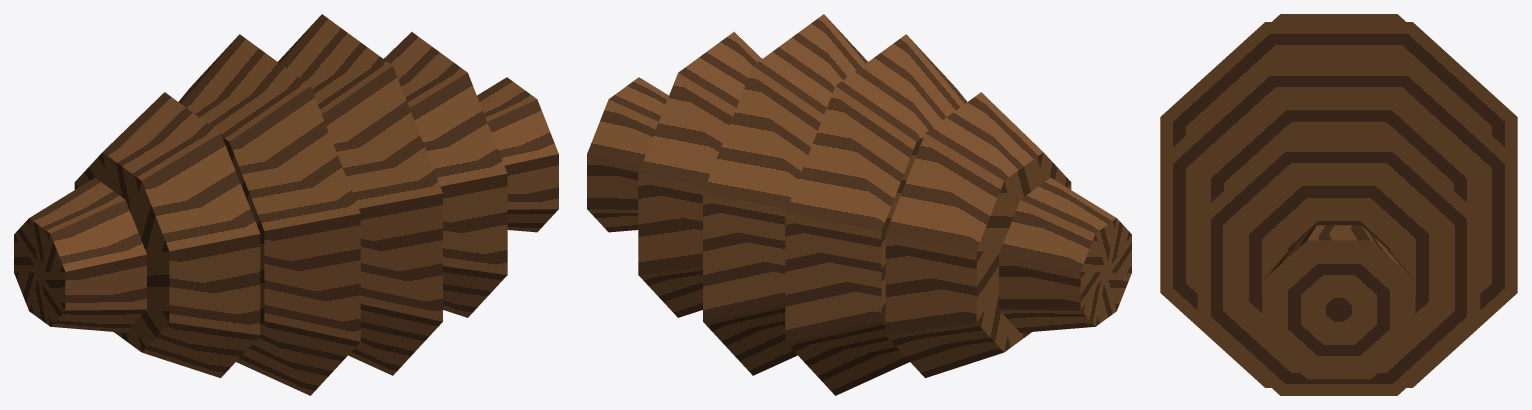
The model's file is pinecone.glb.
The picture shows the model from 3 angles, left to right: view 1: azimuth 30°, elevation 25°; view 2: azimuth 150°, elevation 25°; view 3: azimuth 270°, elevation 25°; orthographic projection. The views are drawn at different scales.
Parts seen in each view (by area): view 1: block_tier3, block_tier4, block_tier2, block_tier1, block_tier5, block_tier0; view 2: block_tier3, block_tier4, block_tier2, block_tier1, block_tier5, block_tier0; view 3: block_tier1, block_tier2, block_tier0, block_tier3, block_tier4.
Boxes of the visible parts, x1,y1,x2,y2 form: block_tier3: [178, 34, 360, 395]; block_tier4: [74, 92, 260, 378]; block_tier2: [278, 14, 442, 375]; block_tier1: [384, 32, 507, 317]; block_tier5: [14, 178, 146, 332]; block_tier0: [477, 77, 558, 232]; block_tier3: [785, 34, 967, 395]; block_tier4: [885, 92, 1071, 378]; block_tier2: [703, 14, 867, 375]; block_tier1: [638, 32, 761, 317]; block_tier5: [999, 178, 1131, 332]; block_tier0: [587, 77, 668, 232]; block_tier1: [1197, 140, 1480, 395]; block_tier2: [1160, 64, 1517, 387]; block_tier0: [1262, 225, 1415, 379]; block_tier3: [1160, 22, 1517, 158]; block_tier4: [1272, 14, 1405, 21].
Size of the model in its own units: 0.082 by 0.0504 by 0.0504.
Materials: 1 (1 with a texture image).
